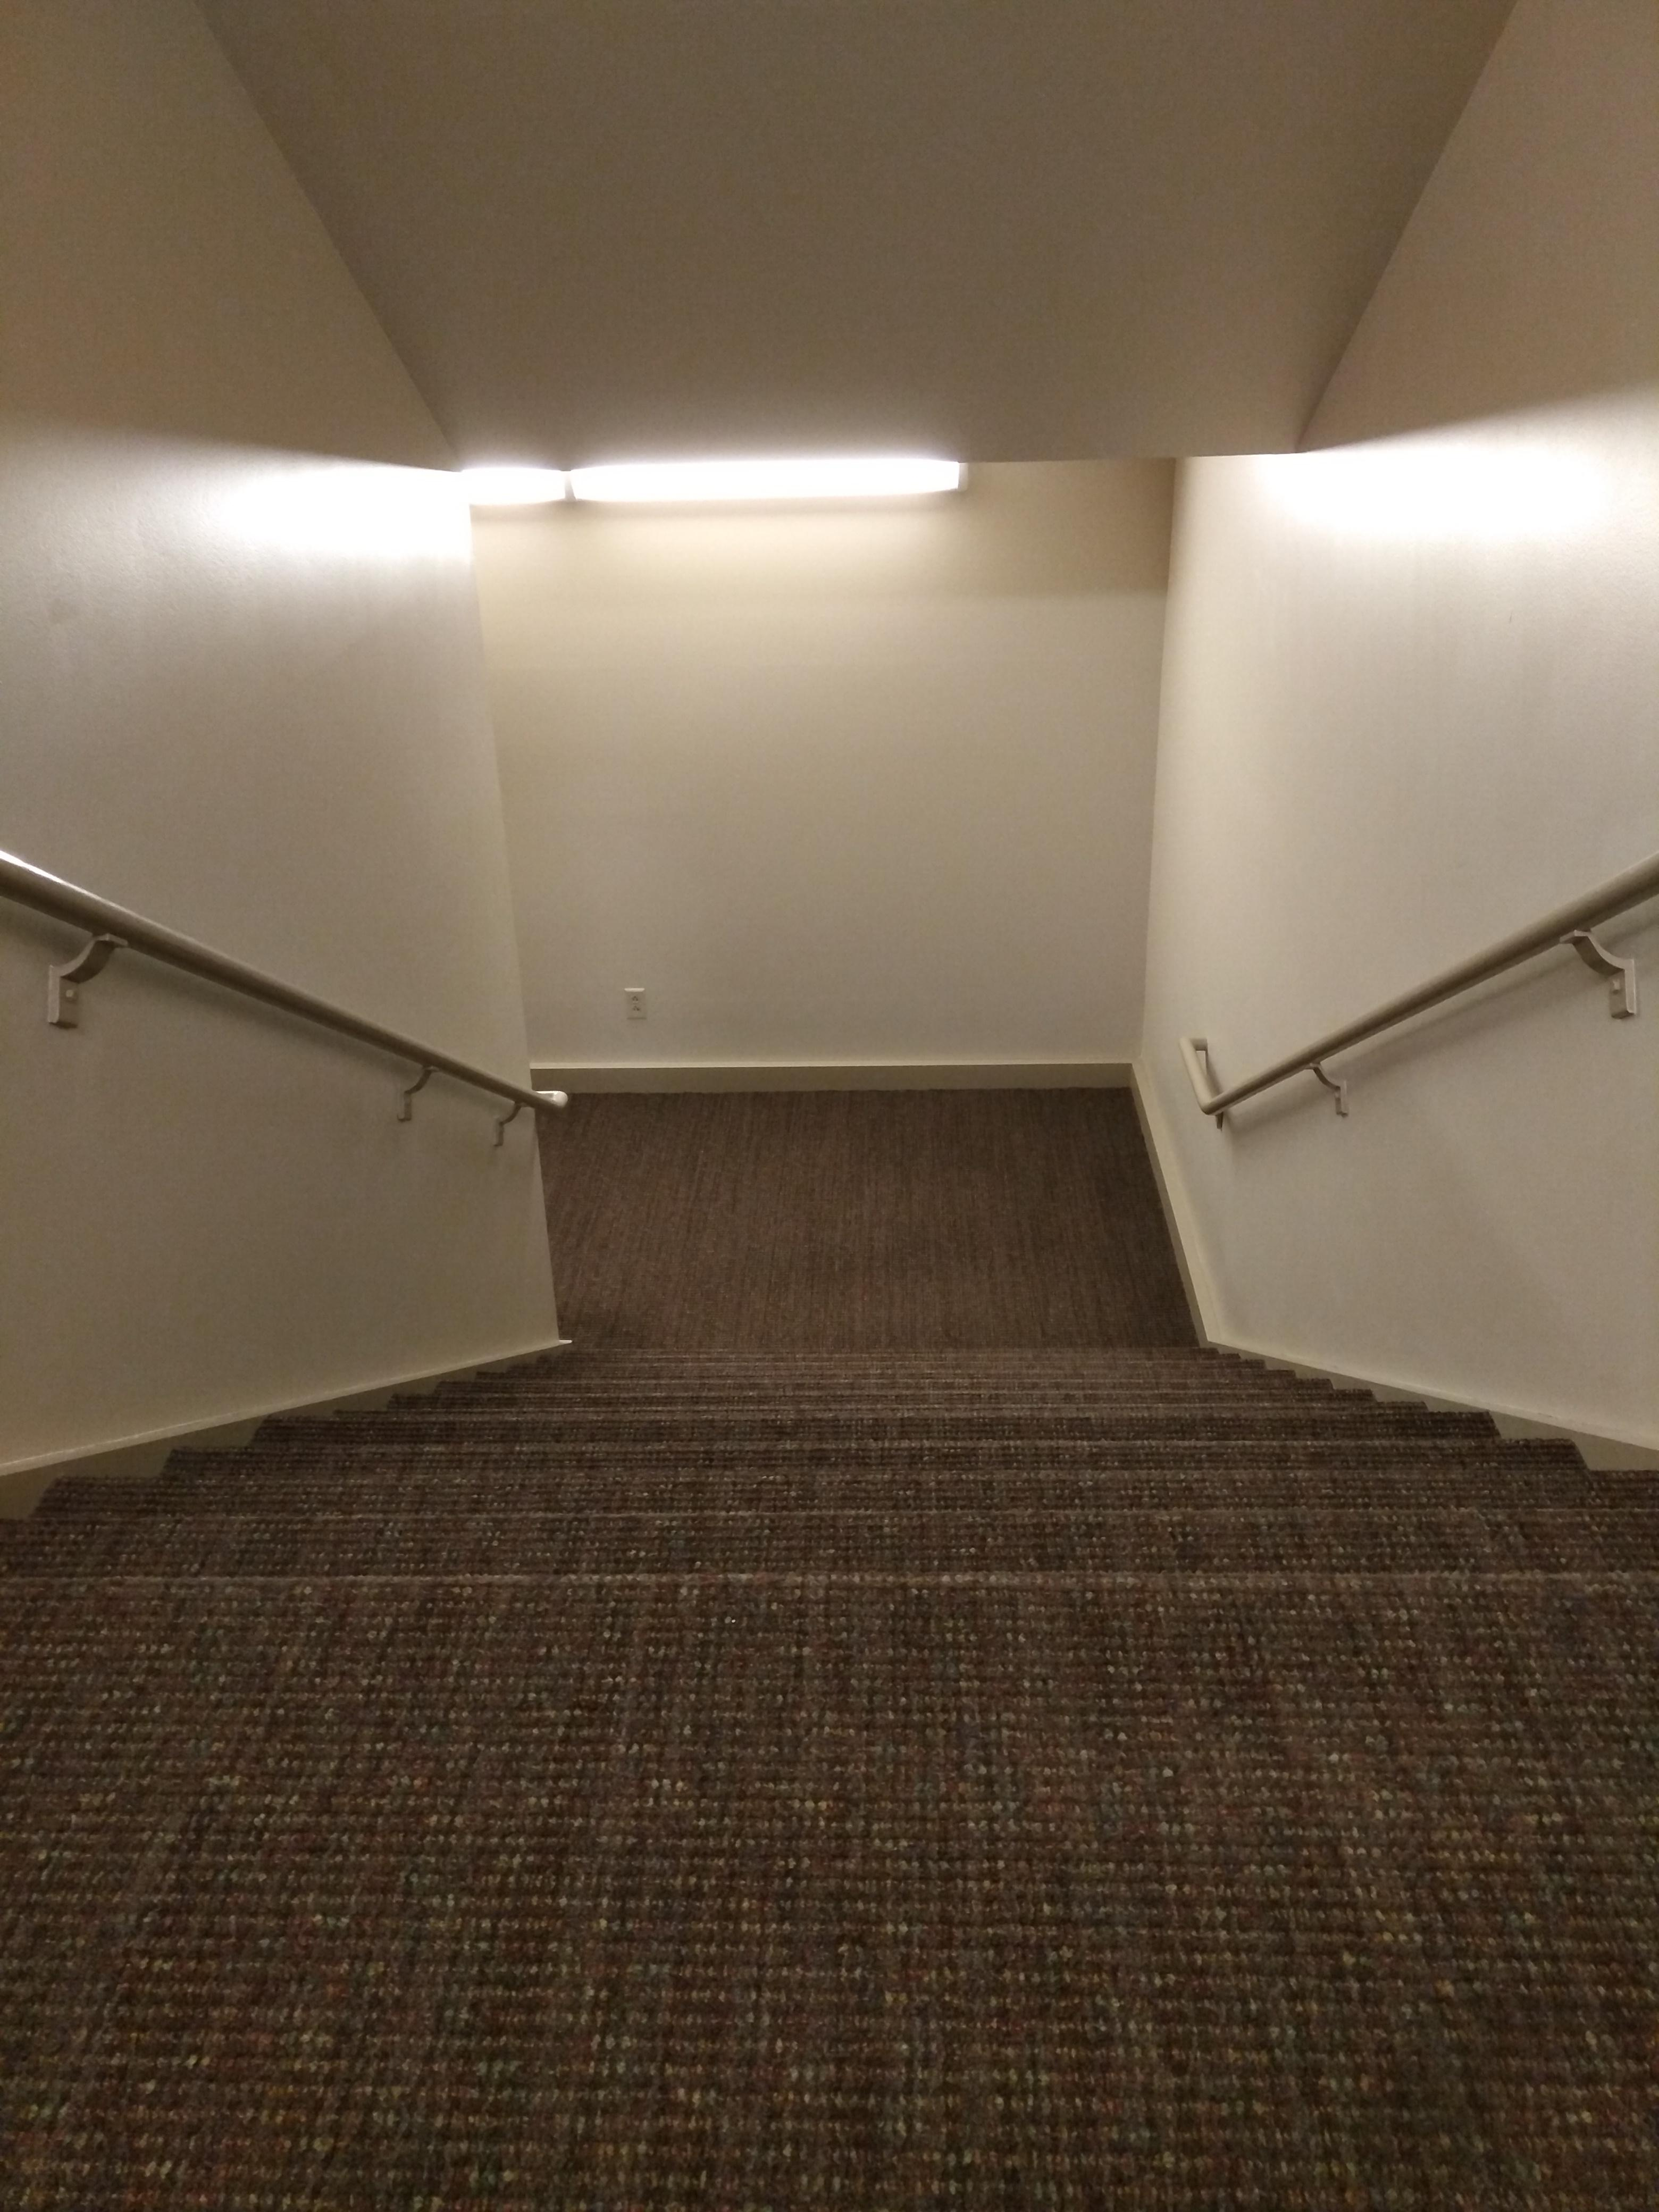stairs_down: (30, 1258, 1659, 1658)
